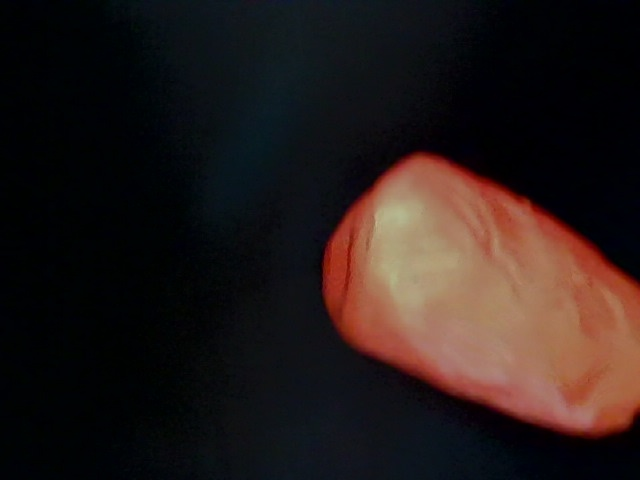YHLJ: (358, 236, 478, 304)
